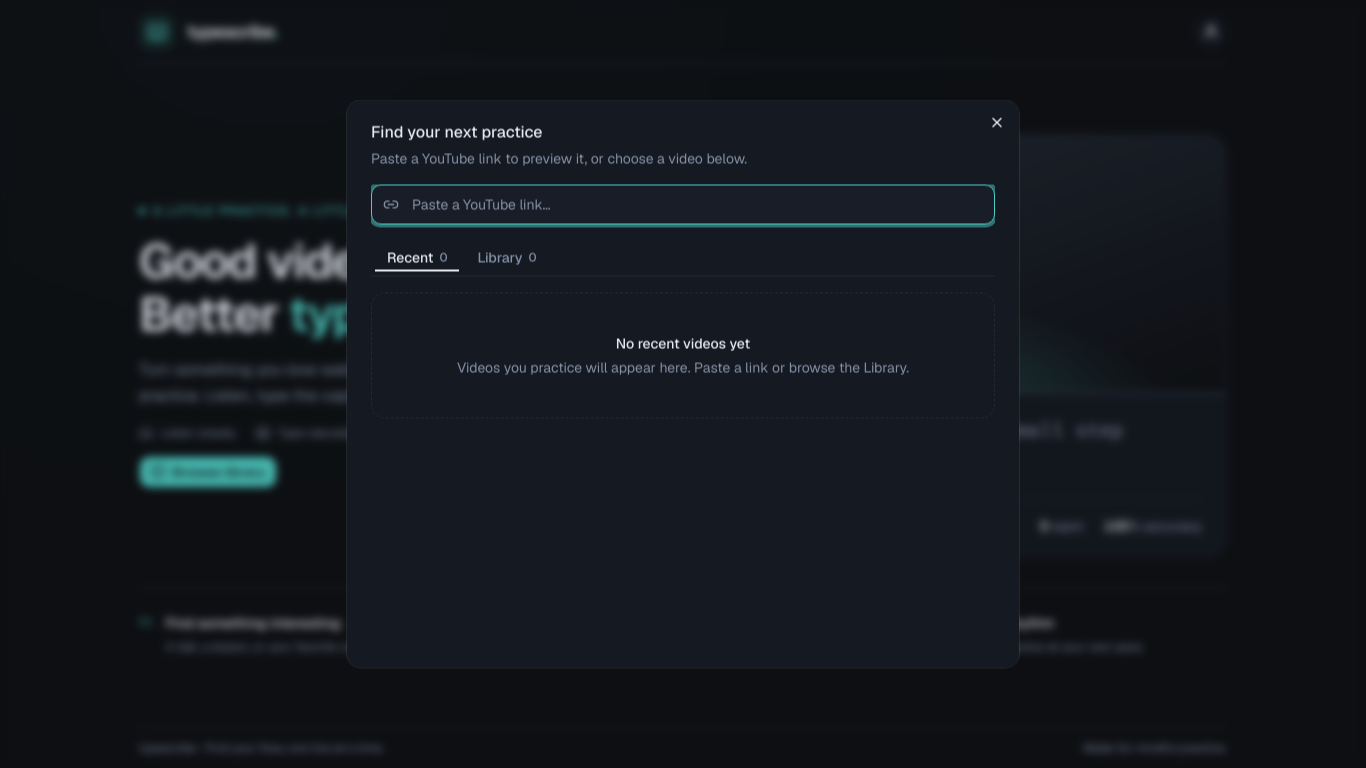
Test: practice workspace › moves the video and caption together using Next and Previous
Press the mouse on the tab "Library 0": (507, 258) [464,248,550,267]
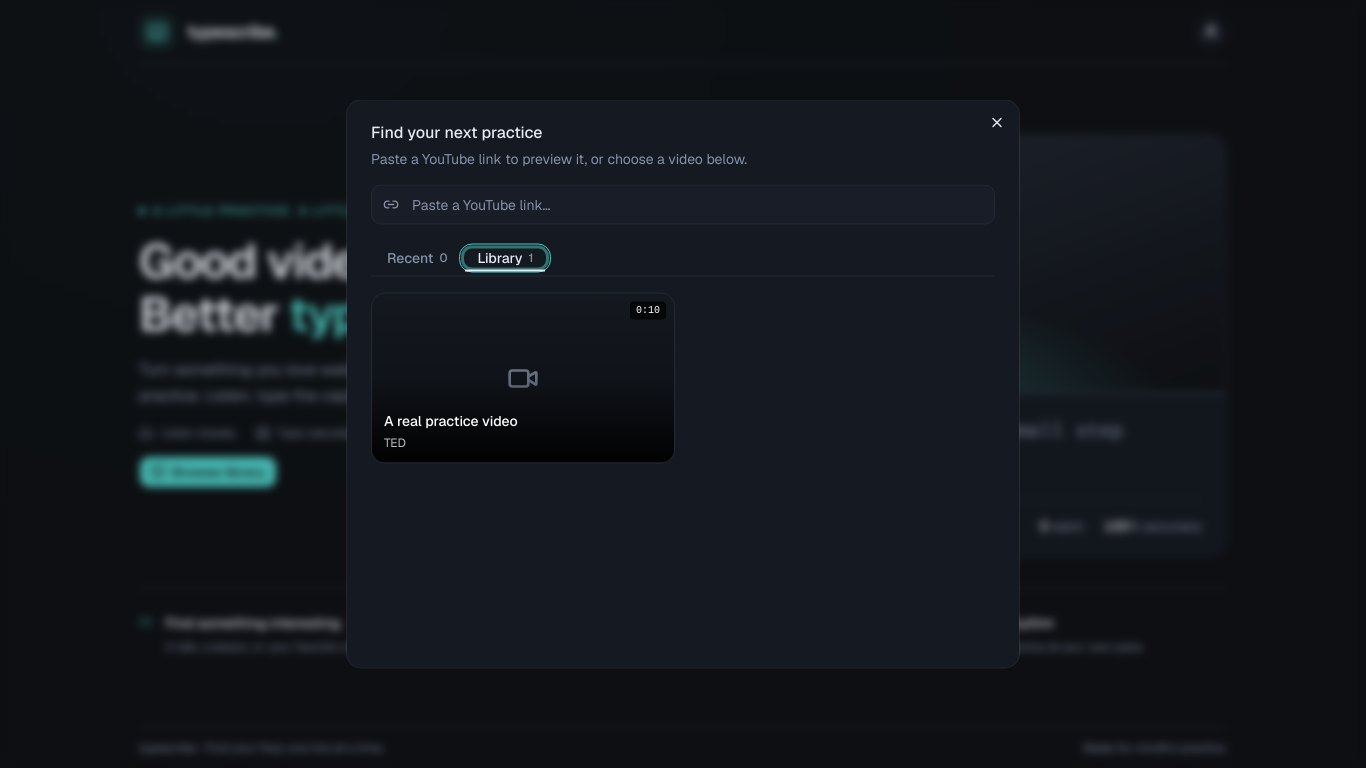
Click the button "0:10 A real practice video TED": (523, 378) [371,292,675,464]
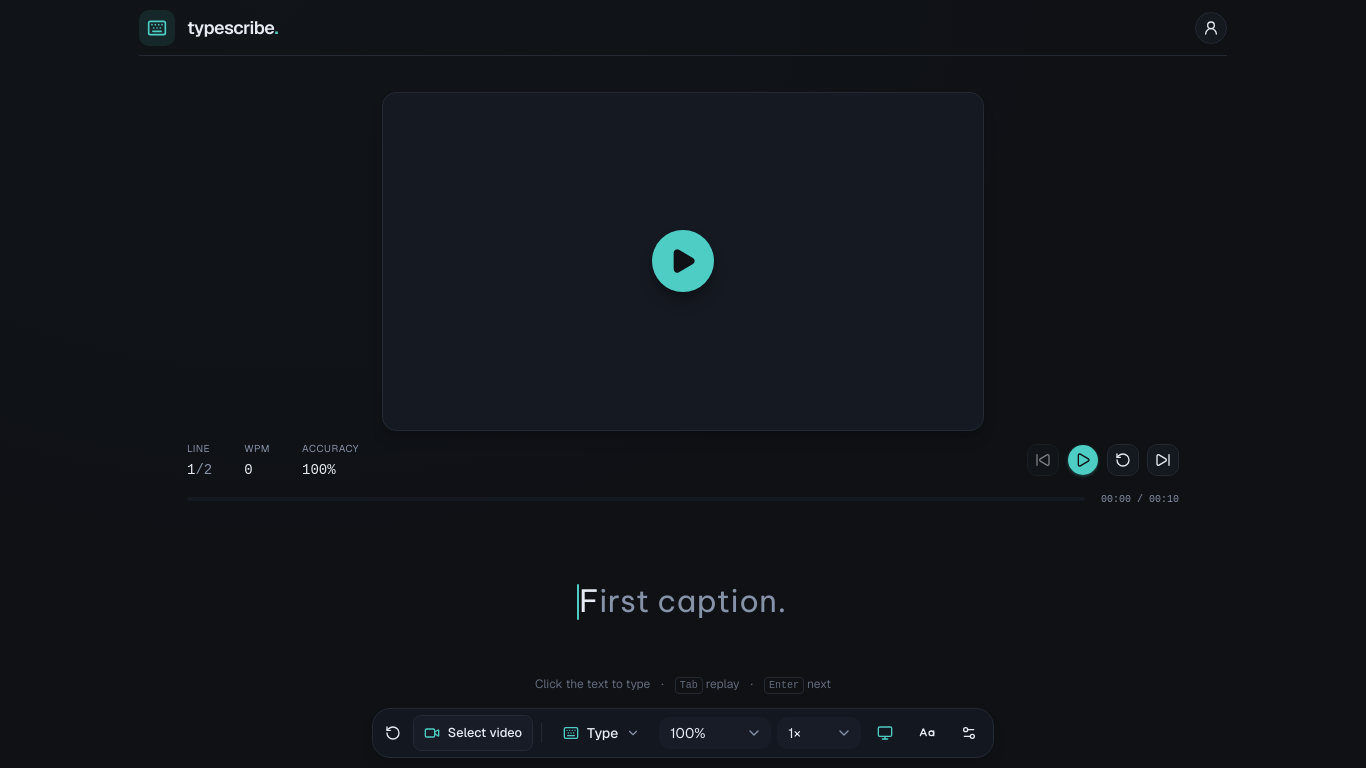
Click the button named "Next": (1163, 460) [1147,444,1179,476]
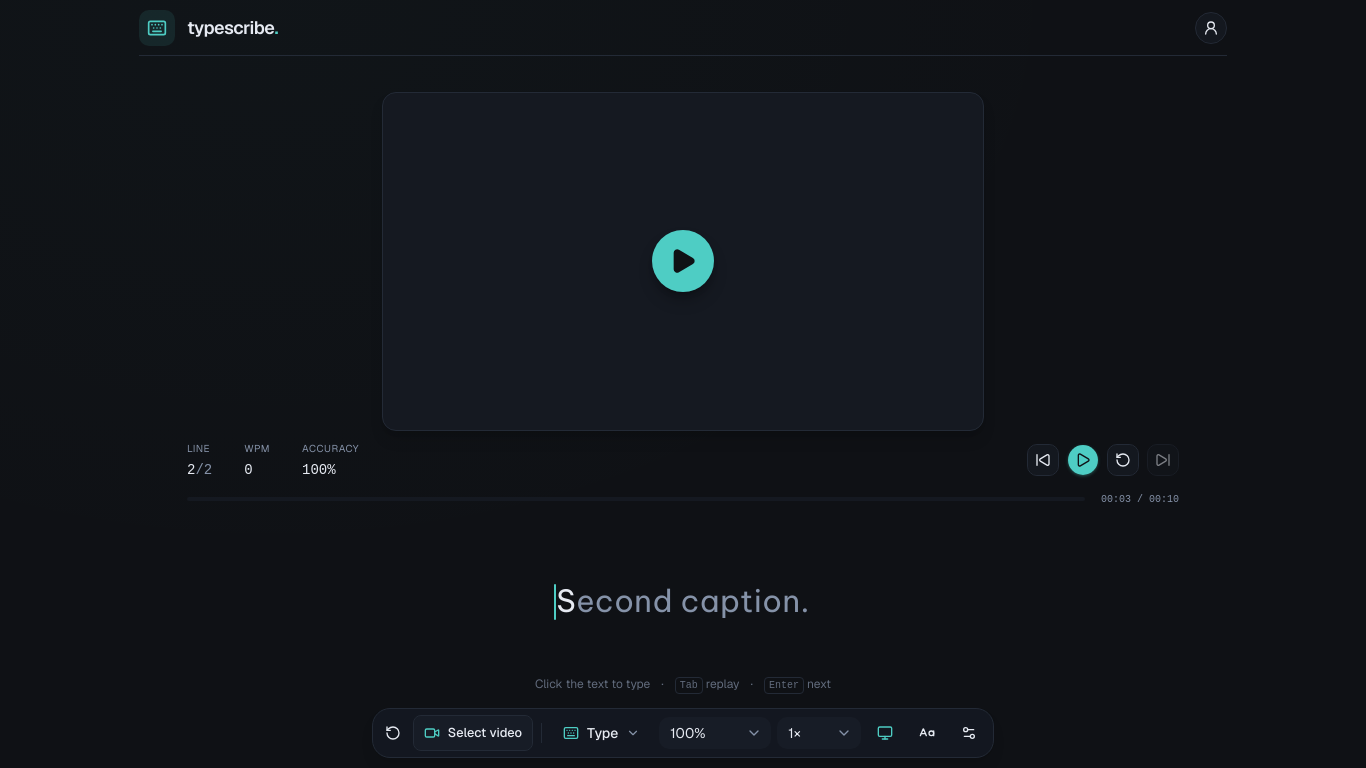
Expected: the element showing "Second" is shown, [556,581,680,620]
Click the button named "Previous": (1043, 460) [1027,444,1059,476]
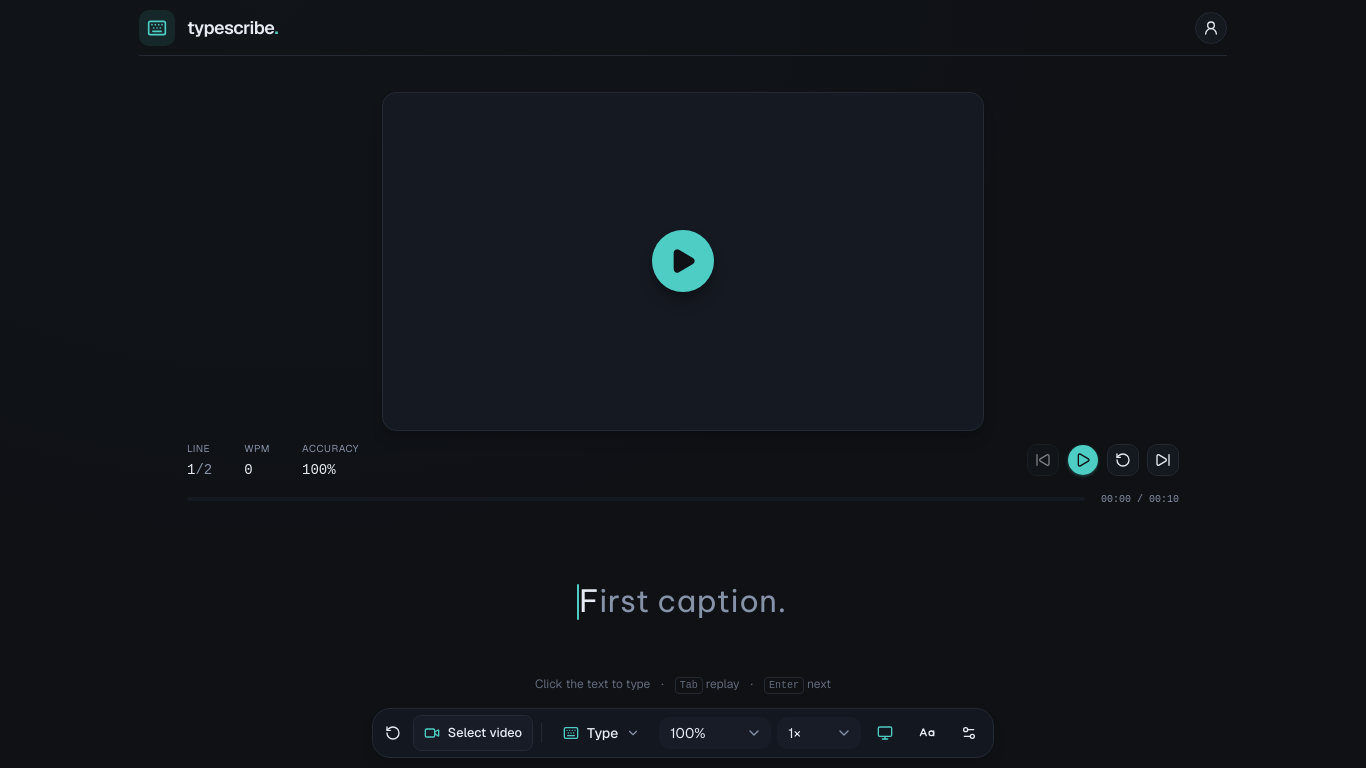
Expected: the element showing "First" is shown, [579,581,657,620]
